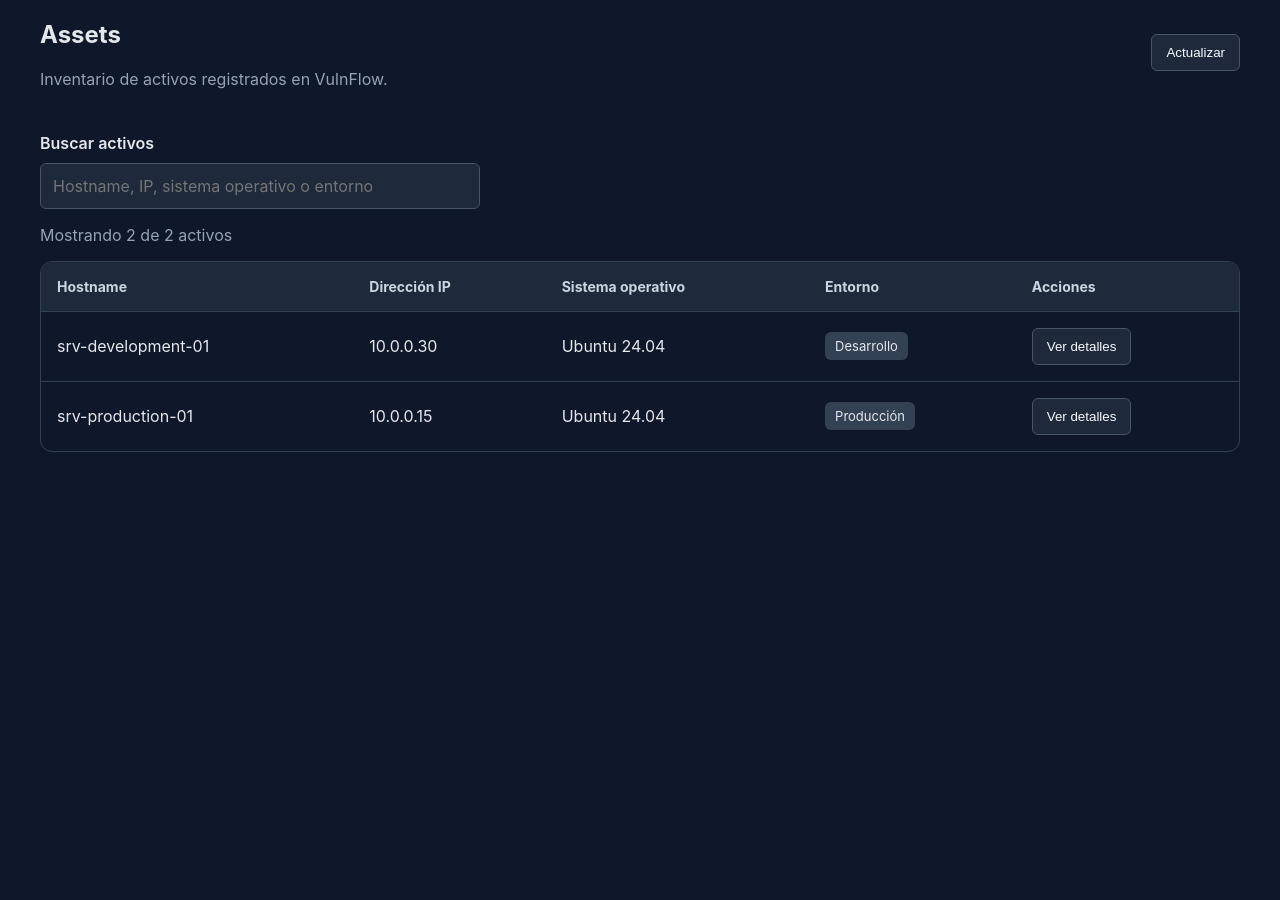
Scenario: AssetsPage › permite abrir y cerrar los detalles
Check: the text "srv-development-01" is shown, box [41,311,353,381]
Click the button "Ver detalles" in the row of "srv-development-01": (1082, 346) [1032,328,1132,365]
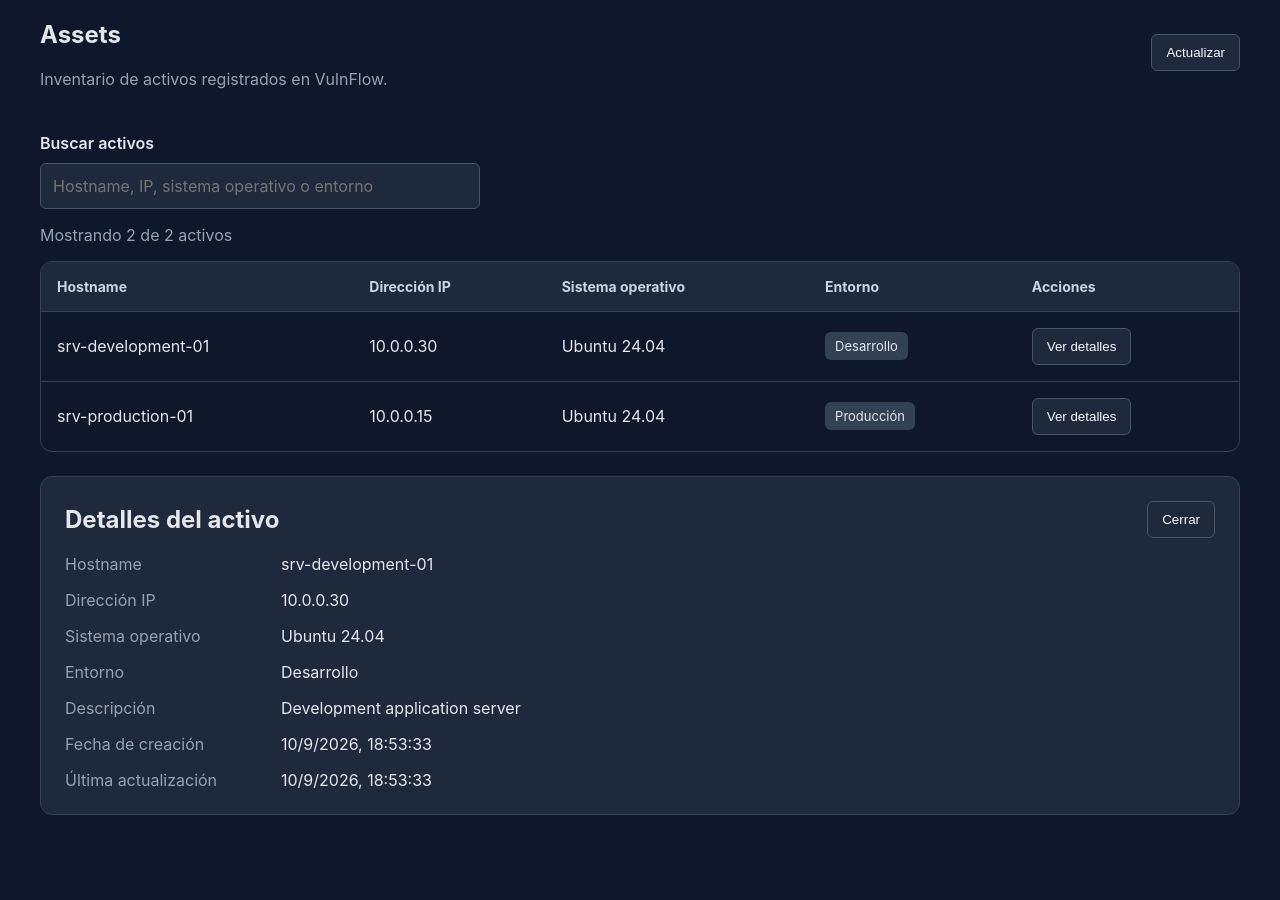
Check: the heading "Detalles del activo" is shown, box [65,505,280,534]
Check: the text "Development application server" is shown, box [281,698,521,718]
Click the button "Cerrar": (1181, 519) [1147,501,1215,538]
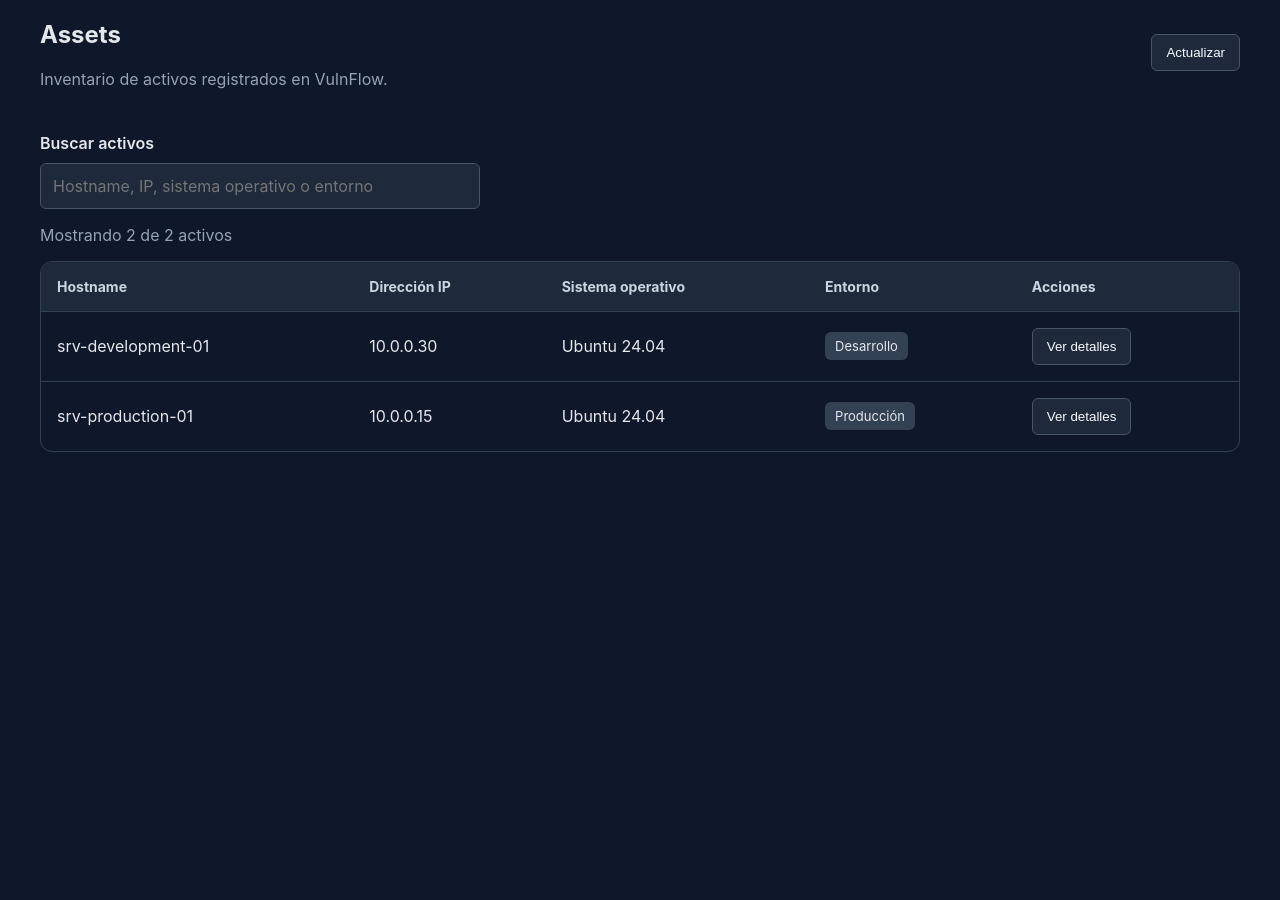
Check: the heading "Detalles del activo" is gone
